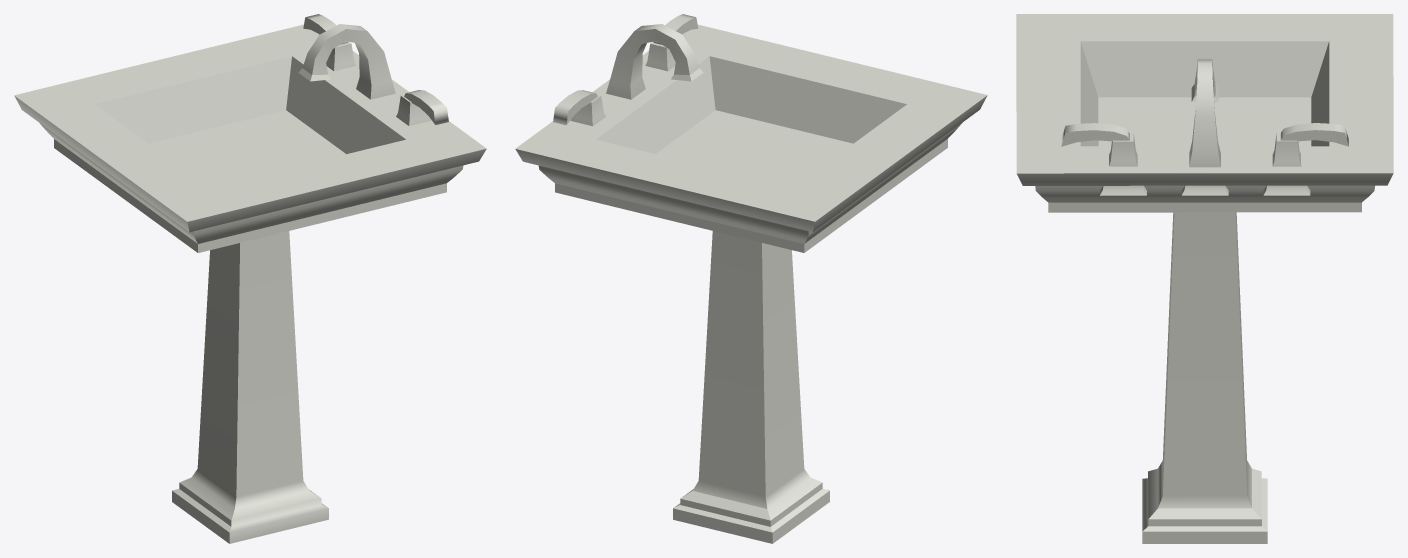
Rendered from Sink.fbx.
3 views of the same model, side by side, from view 1: azimuth 30°, elevation 25°; view 2: azimuth 150°, elevation 25°; view 3: azimuth 270°, elevation 25° (orthographic). The views are drawn at different scales.
Visible parts, largest first — view 1: node_id34; view 2: node_id34; view 3: node_id34.
Part boxes in pixels (bbox=[...]): node_id34: bbox=[14, 14, 486, 543]; node_id34: bbox=[515, 14, 987, 543]; node_id34: bbox=[1016, 14, 1393, 543].
Bounding box in the file's own units: 246 × 362 × 246.
2 materials, 2 textured.
